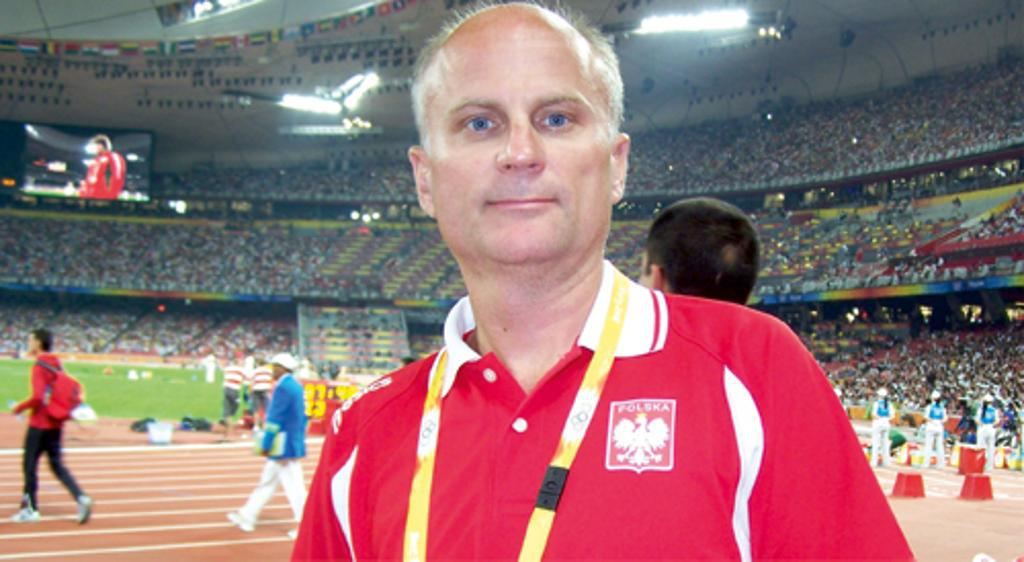face: (423, 23, 609, 261)
